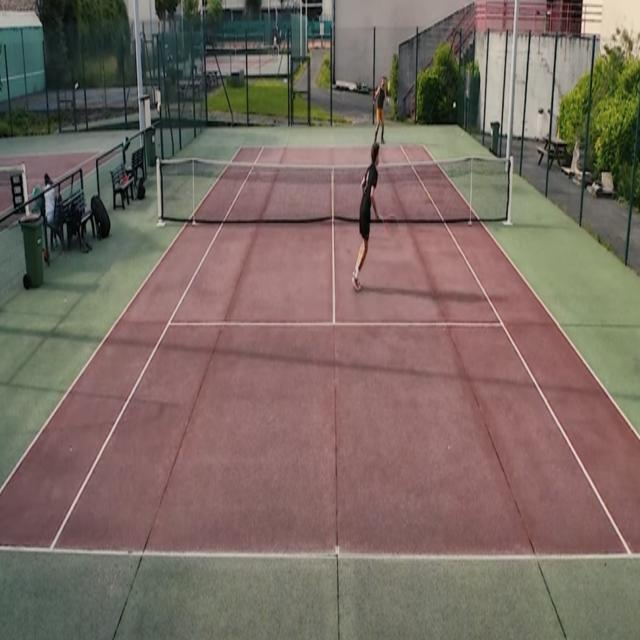ball: (453, 102, 456, 108)
